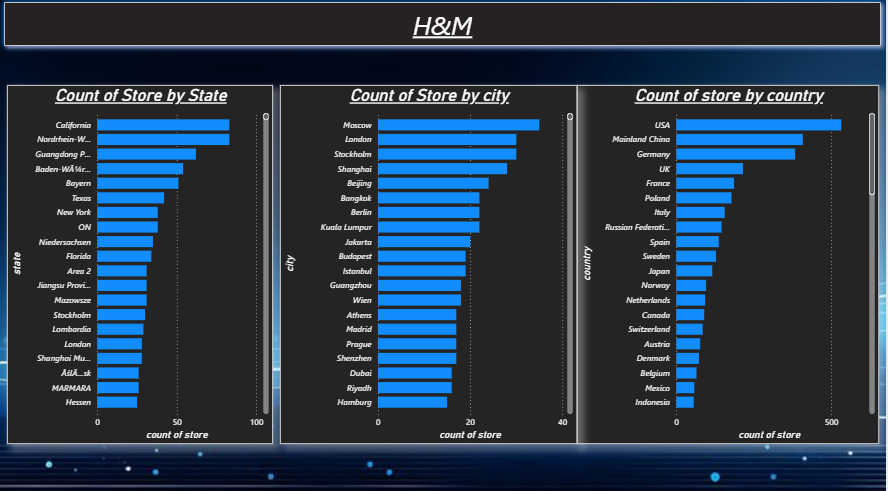

The page's visual inventory and layout, read from the dashboard file:
{"tool":"powerbi","page":{"name":"Page 2","canvas":[1280,720],"ordinal":1},"visuals":[{"type":"barChart","title":"Count of Store by State","fields":{"Category":["HM_all_stores.State_filter"],"Y":["CountNonNull(HM_all_stores.name)"]},"box":[13,128.2,383,517],"z":0},{"type":"barChart","title":"Count of store by country","fields":{"Category":["HM_all_stores.country"],"Y":["CountNonNull(HM_all_stores.name)"]},"box":[833.8,128.2,434.9,517],"z":1000},{"type":"barChart","title":"Count of Store by city","fields":{"Category":["HM_all_stores.city"],"Y":["CountNonNull(HM_all_stores.name)"]},"box":[406.1,128.2,427.7,517],"z":2000},{"type":"shape","box":[0,0,1280.2,80.6],"z":3000}]}

Visuals, with their boxes in screenshot pixels (x1, y1, x2, y2), scaled from the page's 1280x720 canvas onto the 888x491 screenshot:
"Count of Store by State" barChart: 9, 87, 275, 440
"Count of store by country" barChart: 578, 87, 880, 440
"Count of Store by city" barChart: 282, 87, 578, 440
shape: 0, 0, 887, 55
